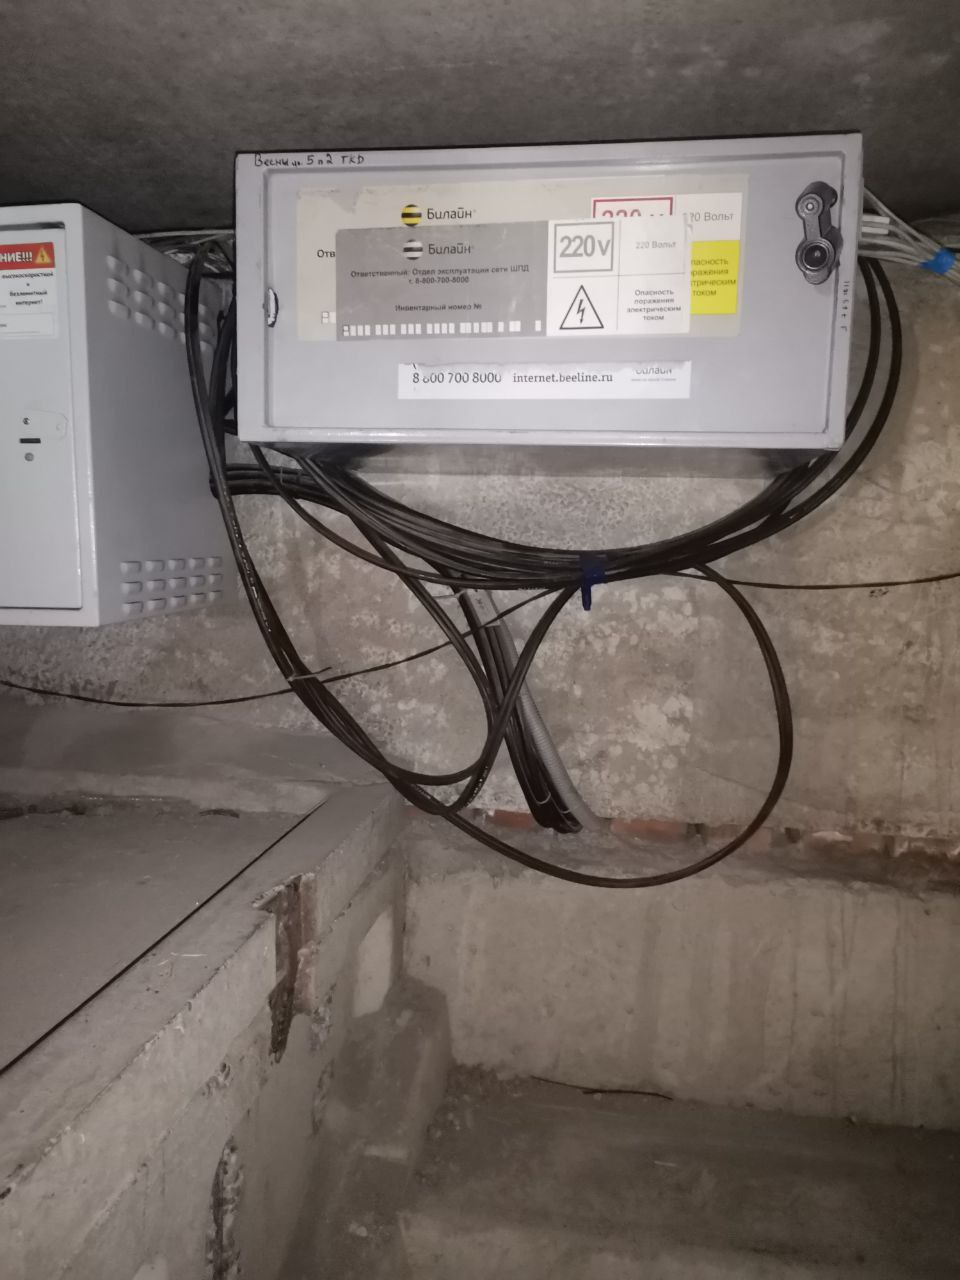sv-5: (227, 128, 864, 457)
